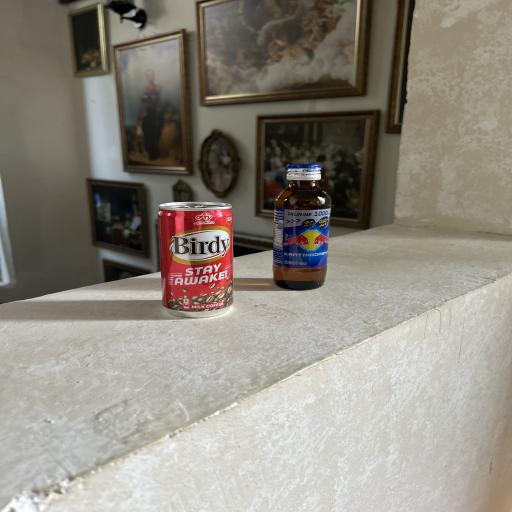birdy: (158, 201, 236, 318)
bo_huc: (273, 161, 332, 291)
